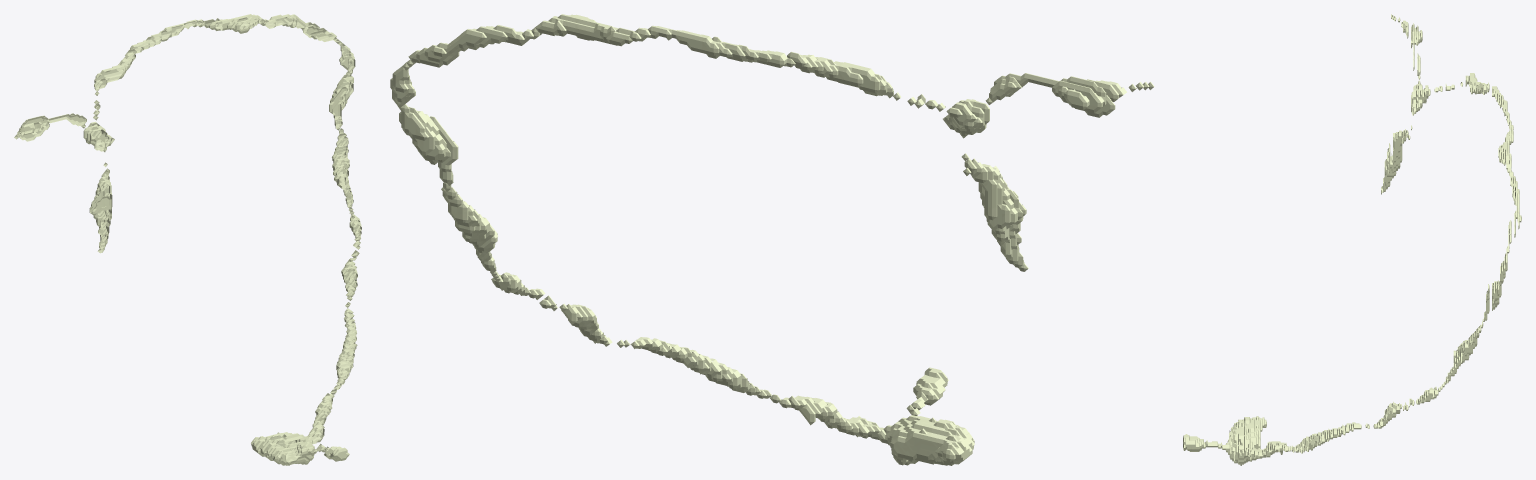
Rendered from SVV_AVJL.gltf.
3 renders of one model, left to right at view 1: azimuth 30°, elevation 25°; view 2: azimuth 150°, elevation 25°; view 3: azimuth 270°, elevation 25°, orthographic. The views are drawn at different scales.
Visible parts, largest first — view 1: AVJL; view 2: AVJL; view 3: AVJL.
Boxes of the visible parts, x1,y1,x2,y2 form: AVJL: [14, 14, 361, 465]; AVJL: [390, 14, 1154, 465]; AVJL: [1183, 14, 1521, 465].
Size of the model in its own units: 89646 by 75281 by 64289.
